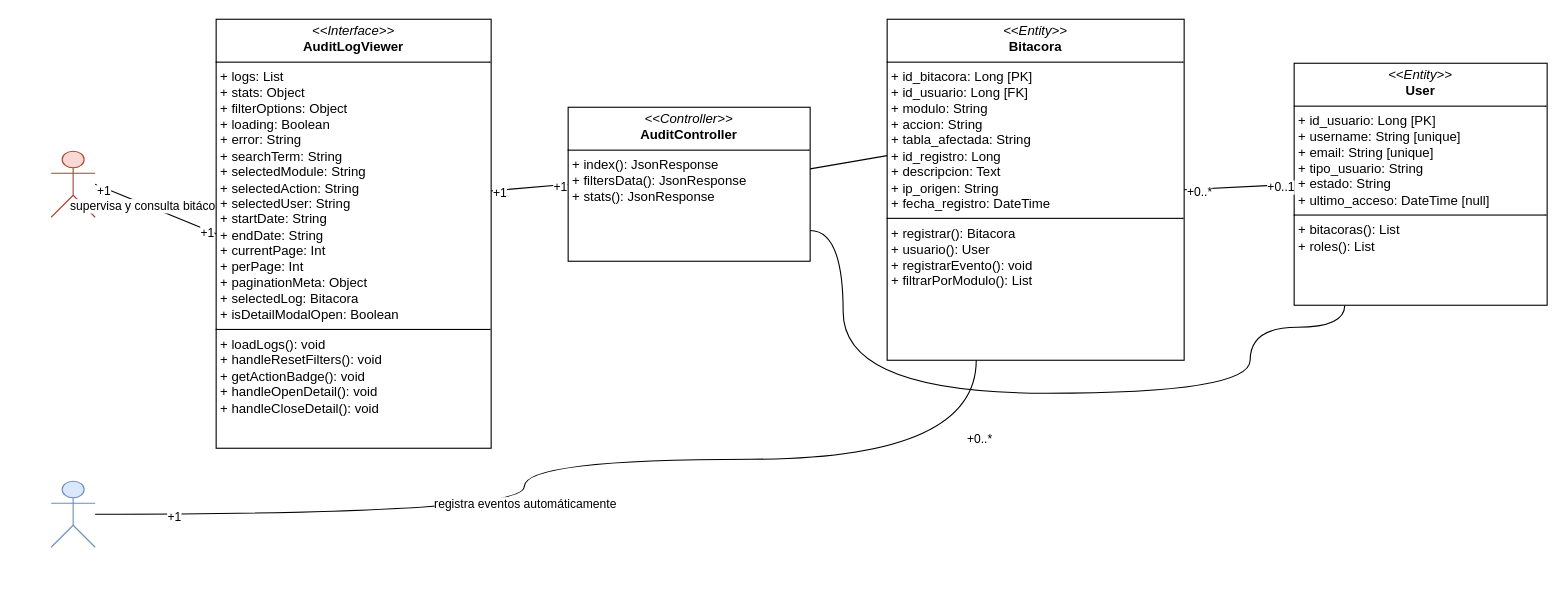
This 1566x590 diagram has some shape labels left out. The centre of each missing label's shape, as x and y in pixels:
"Administrador" belongs at pixel 72 183.
"Sistema / Módulos" belongs at pixel 72 513.
